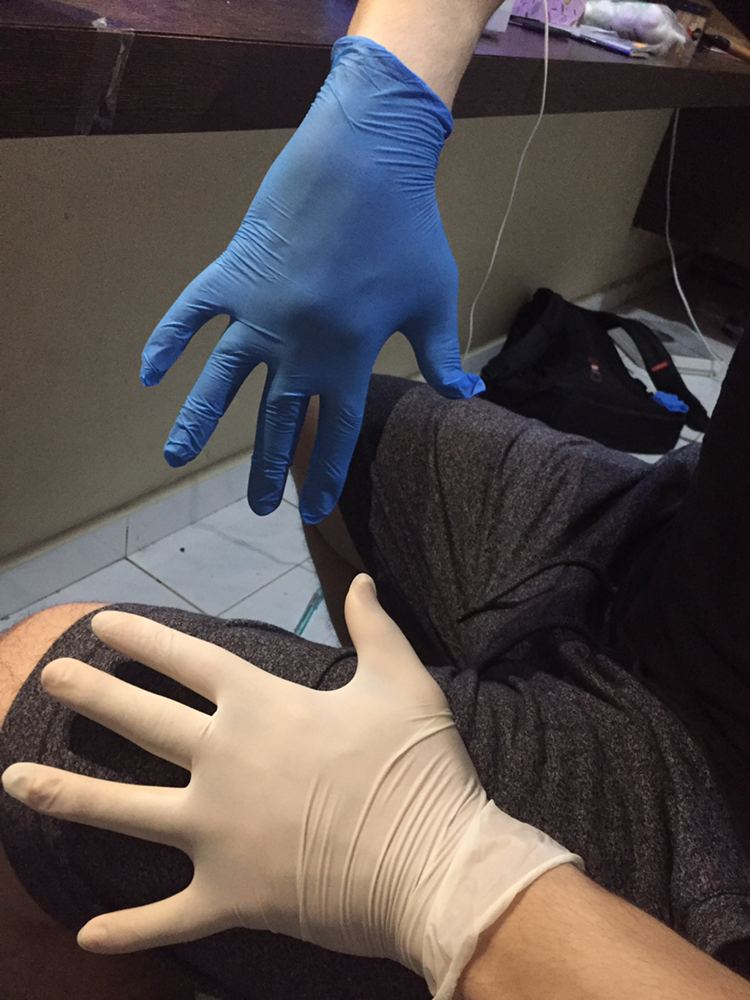glove: (3, 580, 533, 989), (149, 114, 501, 539)
